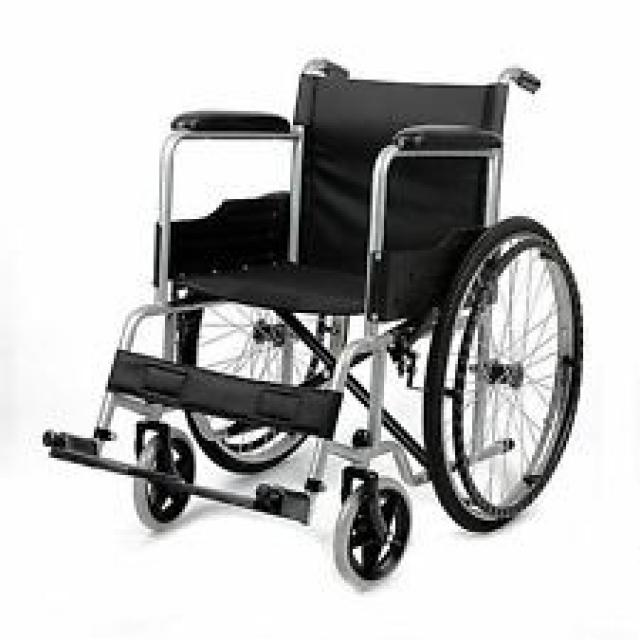wheelchair: (43, 44, 589, 612)
